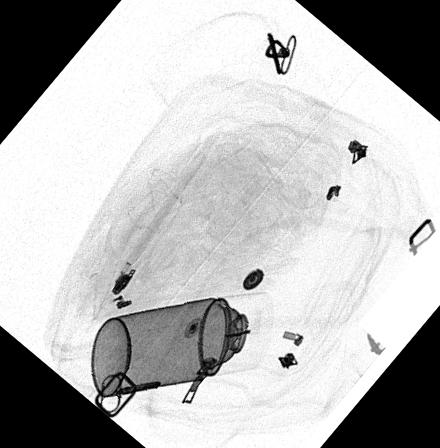Sprayer: (90, 292, 273, 397)
